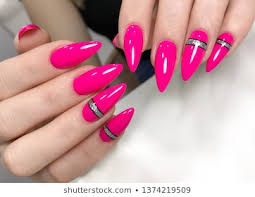nail: (81, 81, 126, 121), (72, 63, 122, 96), (49, 40, 102, 69), (181, 29, 208, 83), (98, 106, 134, 141), (155, 39, 177, 93), (205, 32, 234, 71), (124, 24, 143, 72), (18, 24, 40, 40), (113, 32, 121, 50)
